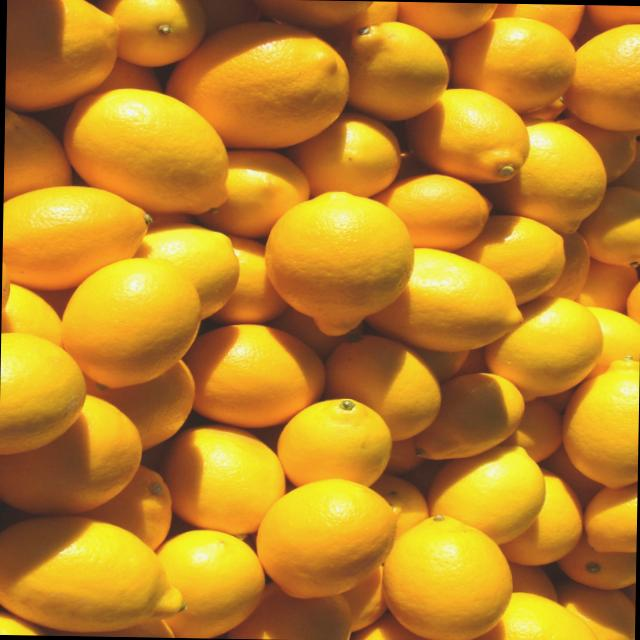lemon: (264, 190, 415, 338), (62, 85, 228, 213), (58, 258, 198, 382), (0, 392, 142, 514), (0, 182, 150, 291), (385, 515, 507, 640), (3, 0, 120, 111), (448, 16, 576, 114), (404, 87, 532, 183), (482, 299, 604, 396)
